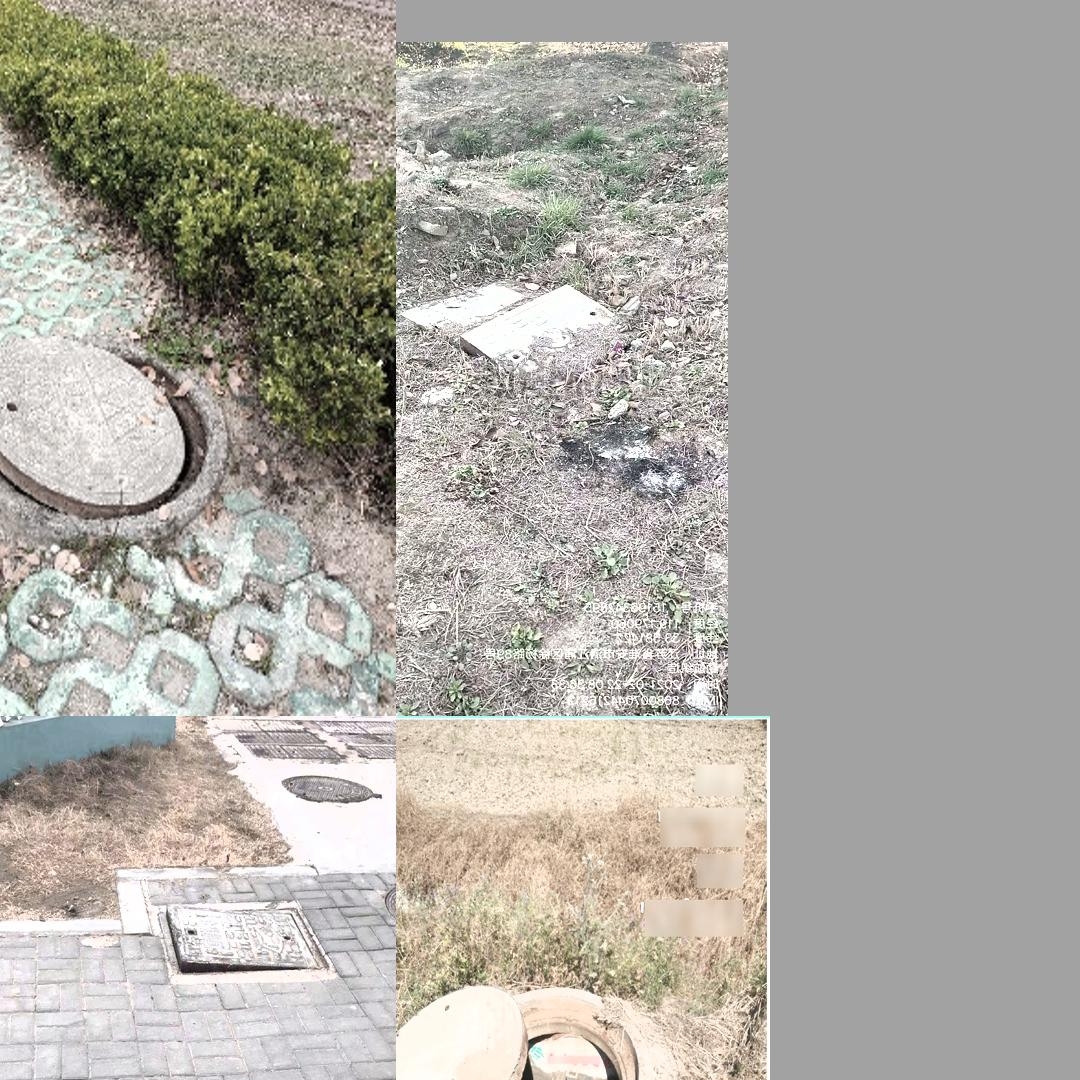good: (279, 774, 382, 802)
uncovered: (0, 330, 228, 545), (396, 959, 658, 1080), (434, 272, 656, 390), (157, 904, 329, 983)
